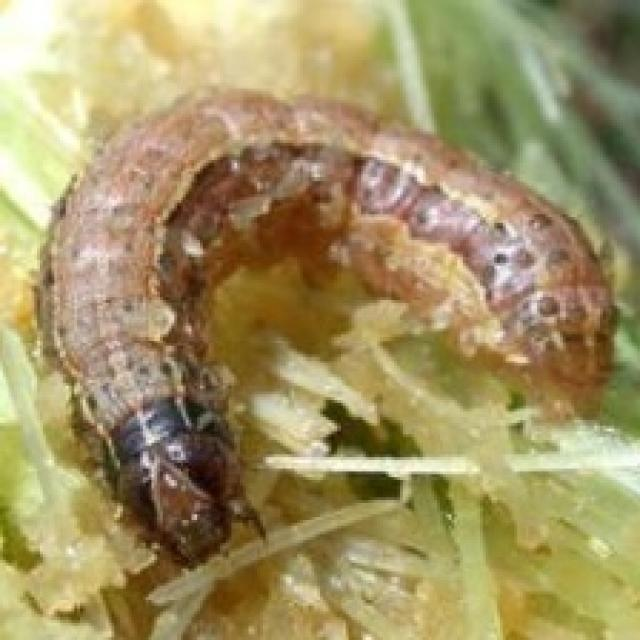armyworm: (21, 67, 638, 581)
